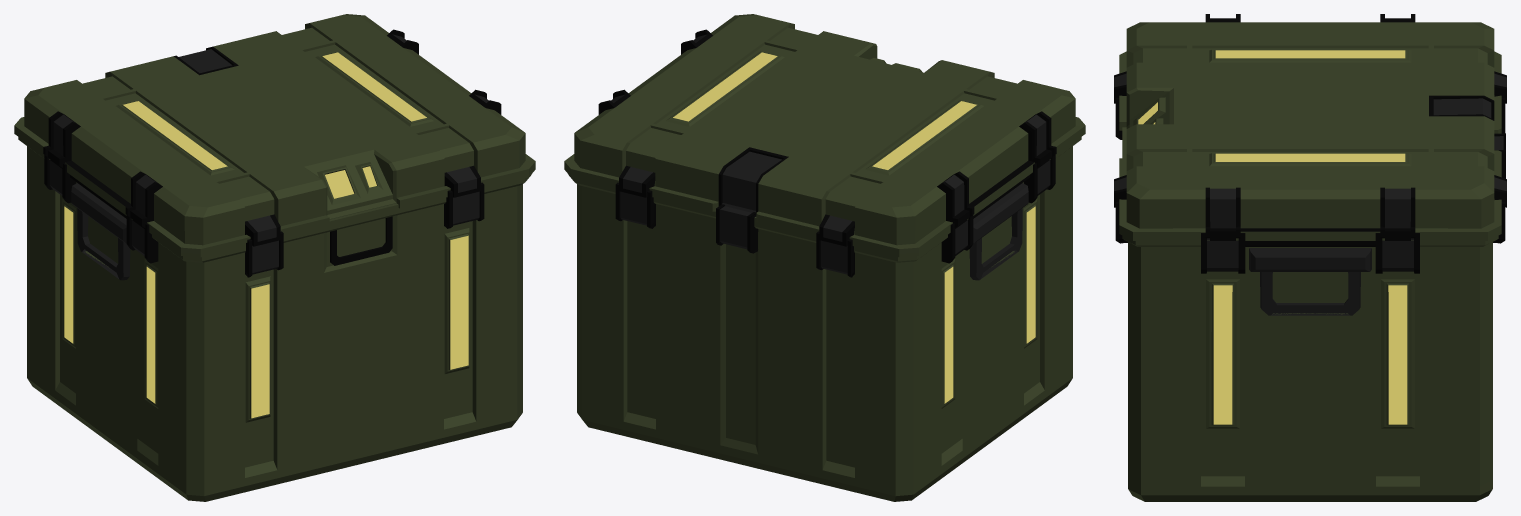
The model's file is crate.glb.
3 views of the same model, side by side, from view 1: azimuth 30°, elevation 25°; view 2: azimuth 150°, elevation 25°; view 3: azimuth 270°, elevation 25° (orthographic). The views are drawn at different scales.
Visible parts, largest first — view 1: Box1, Box2; view 2: Box1, Box2; view 3: Box1, Box2.
Boxes of the visible parts, box(x1,y1,x2,y2) form: Box1: box(18, 137, 531, 501); Box2: box(14, 14, 535, 257); Box1: box(568, 137, 1081, 501); Box2: box(564, 14, 1085, 257); Box1: box(1115, 98, 1505, 501); Box2: box(1114, 14, 1506, 240).
Size of the model in its own units: 2.74 by 2.13 by 2.4.
